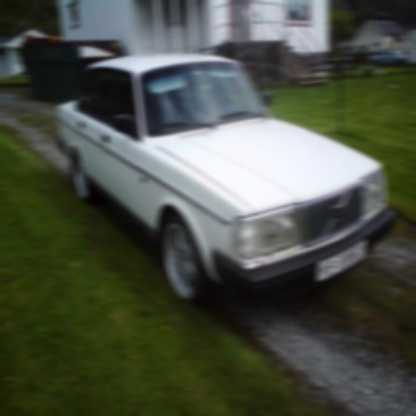Vehicle: (50, 40, 400, 309)
